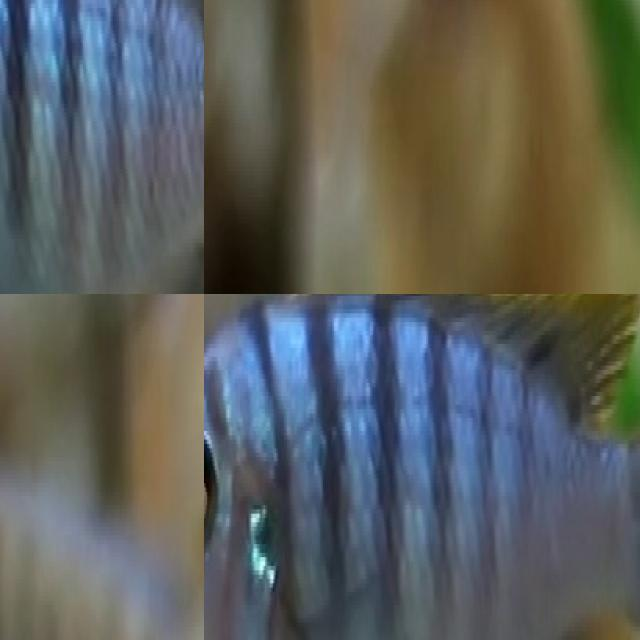fish: (0, 0, 204, 294), (0, 422, 204, 640)
